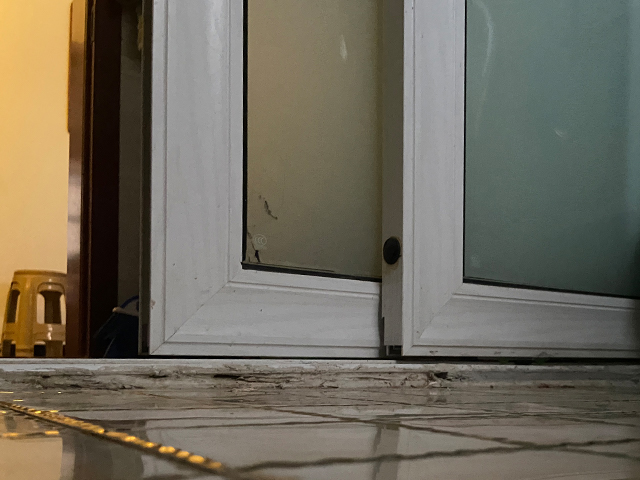stool: (1, 267, 70, 359)
